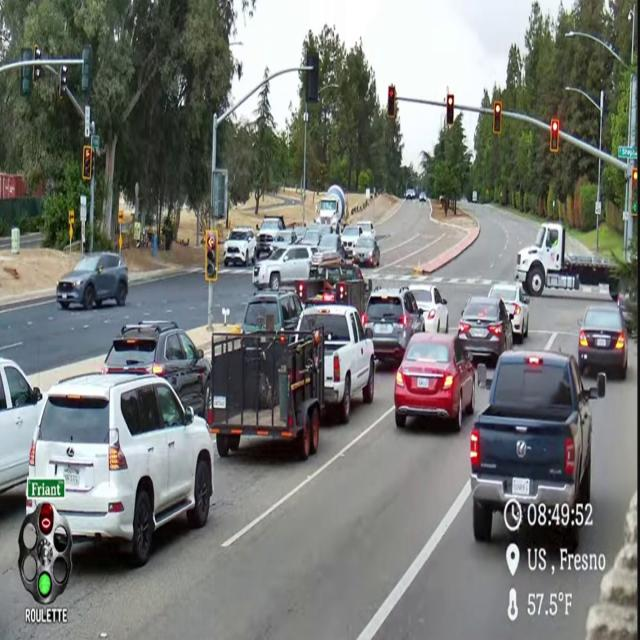car: (26, 374, 213, 566), (102, 321, 210, 415), (394, 333, 474, 431), (0, 359, 42, 493), (362, 287, 423, 363), (56, 253, 128, 310), (578, 304, 627, 378), (458, 297, 512, 364), (253, 245, 317, 289), (241, 290, 302, 333), (488, 283, 530, 343), (410, 284, 448, 333), (256, 216, 285, 259), (224, 228, 256, 266), (314, 233, 344, 261), (353, 236, 380, 267), (617, 292, 636, 331), (298, 224, 329, 247), (341, 224, 362, 256), (298, 225, 322, 247), (272, 229, 297, 250), (357, 221, 375, 238), (293, 226, 307, 243), (406, 189, 415, 199), (419, 192, 427, 202)
traffic signal: (205, 230, 218, 282), (306, 51, 319, 103), (81, 45, 93, 95), (39, 504, 54, 535), (20, 66, 32, 96), (82, 145, 92, 181), (387, 85, 396, 119), (59, 65, 68, 99), (493, 101, 502, 135), (550, 119, 559, 152), (446, 95, 454, 126), (632, 168, 637, 216), (338, 283, 348, 302), (33, 65, 41, 82), (632, 168, 637, 188)
truck: (470, 351, 606, 551), (208, 330, 324, 460), (297, 304, 374, 423), (515, 223, 619, 300), (297, 259, 372, 316), (297, 278, 370, 318), (317, 184, 347, 231), (256, 216, 285, 258)
